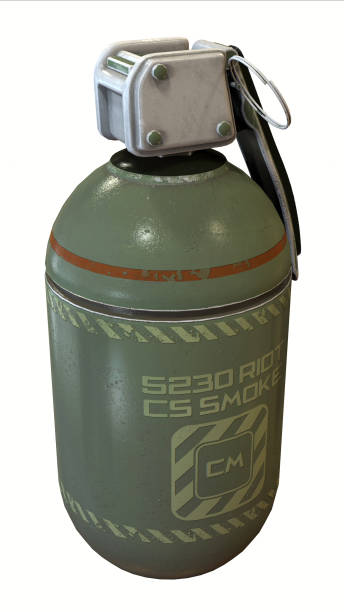e1: (47, 37, 305, 578)
